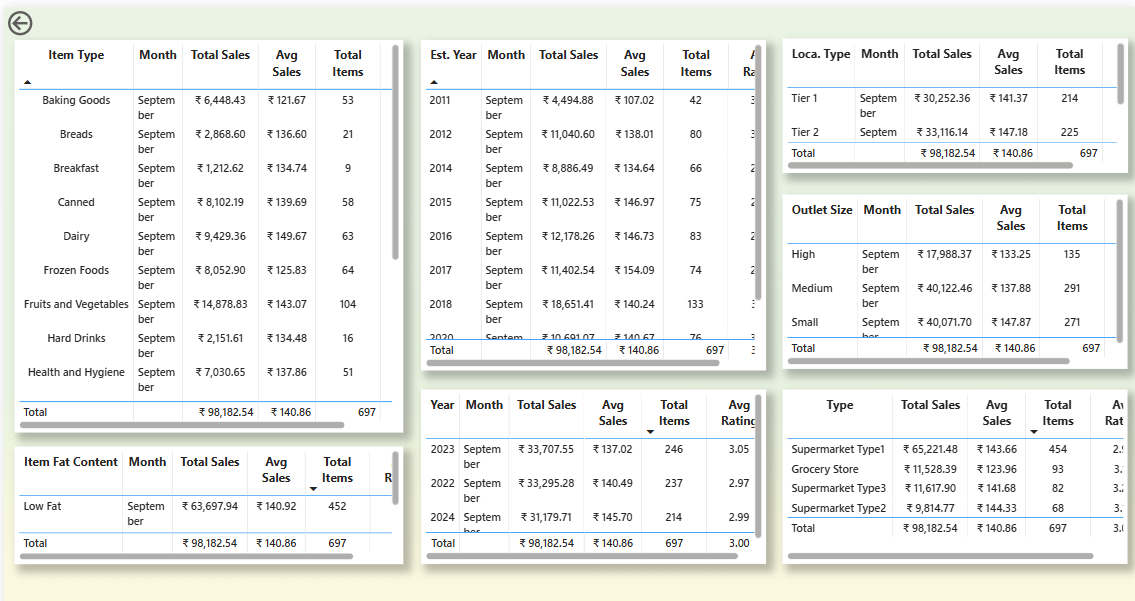

This screenshot's page, from the dashboard's own definition file:
{"tool":"powerbi","page":{"name":"Outlet Details","canvas":[1400,800],"ordinal":4},"visuals":[{"type":"actionButton","box":[0,0,100,40],"z":0},{"type":"tableEx","fields":{"Values":["Blinkit.Item Type","Calendar.Date.Variation.Date Hierarchy.Month","_Measure.Total Items"]},"box":[12.8,39.9,480,484.7],"z":1000},{"type":"tableEx","fields":{"Values":["Blinkit.Outlet Establishment Year","Calendar.Date.Variation.Date Hierarchy.Month","_Measure.Total Items"]},"box":[514.2,39.9,425.7,408.2],"z":2000},{"type":"tableEx","fields":{"Values":["Blinkit.Outlet Location Type","Calendar.Date.Variation.Date Hierarchy.Month","_Measure.Total Items"]},"box":[961,39.3,426.8,166.1],"z":3000},{"type":"tableEx","fields":{"Values":["Calendar.Date.Variation.Date Hierarchy.Year","Calendar.Date.Variation.Date Hierarchy.Month","_Measure.Total Items"]},"box":[514.2,472,425.7,215.3],"z":4000},{"type":"tableEx","fields":{"Values":["Blinkit.Outlet Size","Calendar.Date.Variation.Date Hierarchy.Month","_Measure.Total Items"]},"box":[961.5,231,425.7,215.3],"z":5000},{"type":"tableEx","fields":{"Values":["Blinkit.Outlet Type","_Measure.Total Items"]},"box":[961.5,472,425.7,215.3],"z":6000},{"type":"tableEx","fields":{"Values":["Blinkit.Item Fat Content","Calendar.Date.Variation.Date Hierarchy.Month","_Measure.Total Items"]},"box":[12.8,542.1,480,145.1],"z":7000}]}

Visuals, with their boxes on the page's 1400x800 design canvas (x1, y1, x2, y2). These are canvas units, not pixel positions in the 1135x601 screenshot, which may show the page scaled, cropped or inside an application window:
actionButton: box(0, 0, 100, 40)
tableEx - Blinkit.Item Type x Calendar.Date.Variation.Date Hierarchy.Month: box(13, 40, 493, 525)
tableEx - Blinkit.Outlet Establishment Year x Calendar.Date.Variation.Date Hierarchy.Month: box(514, 40, 940, 448)
tableEx - Blinkit.Outlet Location Type x Calendar.Date.Variation.Date Hierarchy.Month: box(961, 39, 1388, 205)
tableEx - Calendar.Date.Variation.Date Hierarchy.Year x Calendar.Date.Variation.Date Hierarchy.Month: box(514, 472, 940, 687)
tableEx - Blinkit.Outlet Size x Calendar.Date.Variation.Date Hierarchy.Month: box(962, 231, 1387, 446)
tableEx - Blinkit.Outlet Type x _Measure.Total Items: box(962, 472, 1387, 687)
tableEx - Blinkit.Item Fat Content x Calendar.Date.Variation.Date Hierarchy.Month: box(13, 542, 493, 687)
